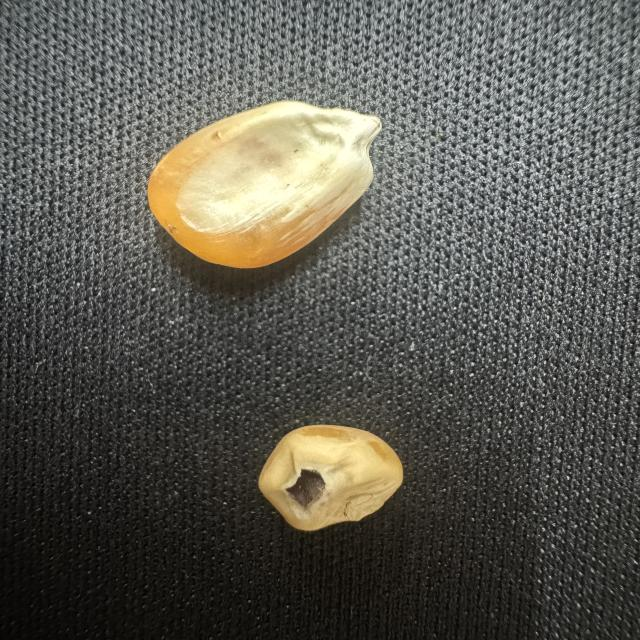Bad-Seed: (248, 407, 407, 550)
Good-Seed: (146, 97, 387, 280)
